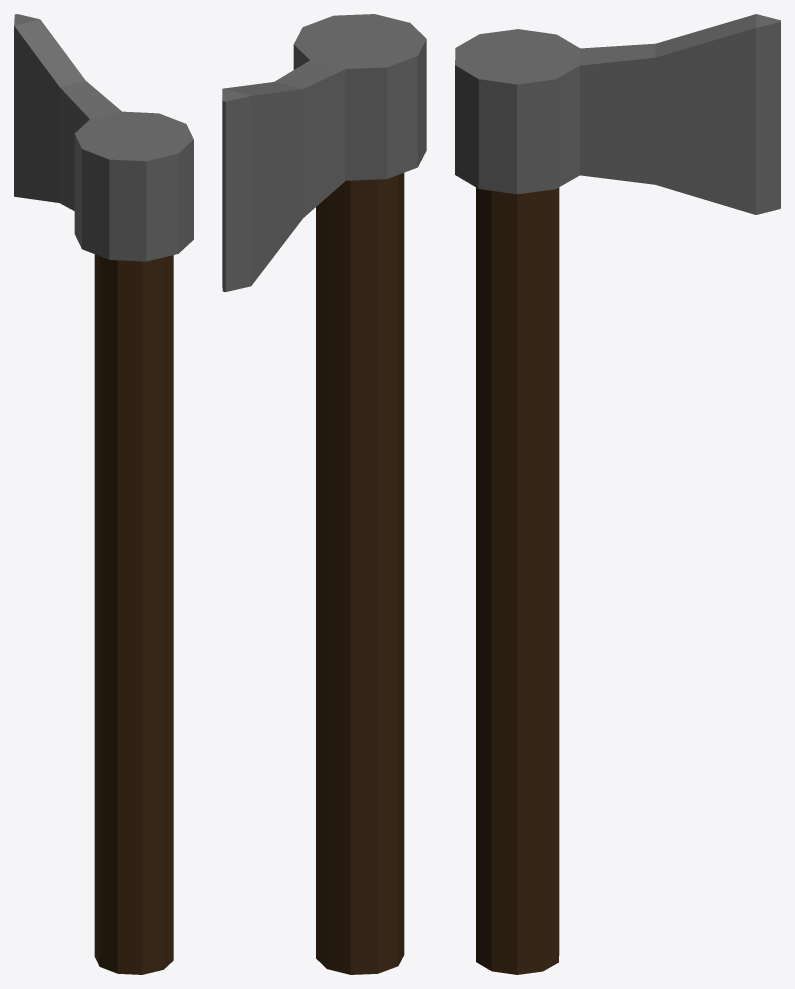
File: Hatchet.glb
The picture shows the model from 3 angles, left to right: view 1: azimuth 30°, elevation 25°; view 2: azimuth 150°, elevation 25°; view 3: azimuth 270°, elevation 25°; orthographic projection. The views are drawn at different scales.
Parts seen in each view (by area): view 1: Hatchet; view 2: Hatchet; view 3: Hatchet.
Part boxes in pixels (<box>): Hatchet: <box>14,14,193,974</box>; Hatchet: <box>222,14,426,974</box>; Hatchet: <box>455,14,780,974</box>.
Size of the model in its own units: 0.2 by 1.57 by 0.4961.
